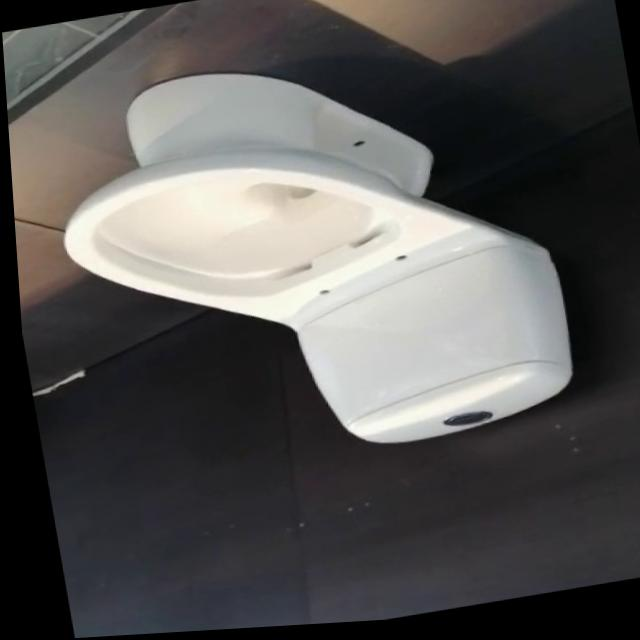toilet: (33, 26, 581, 497)
